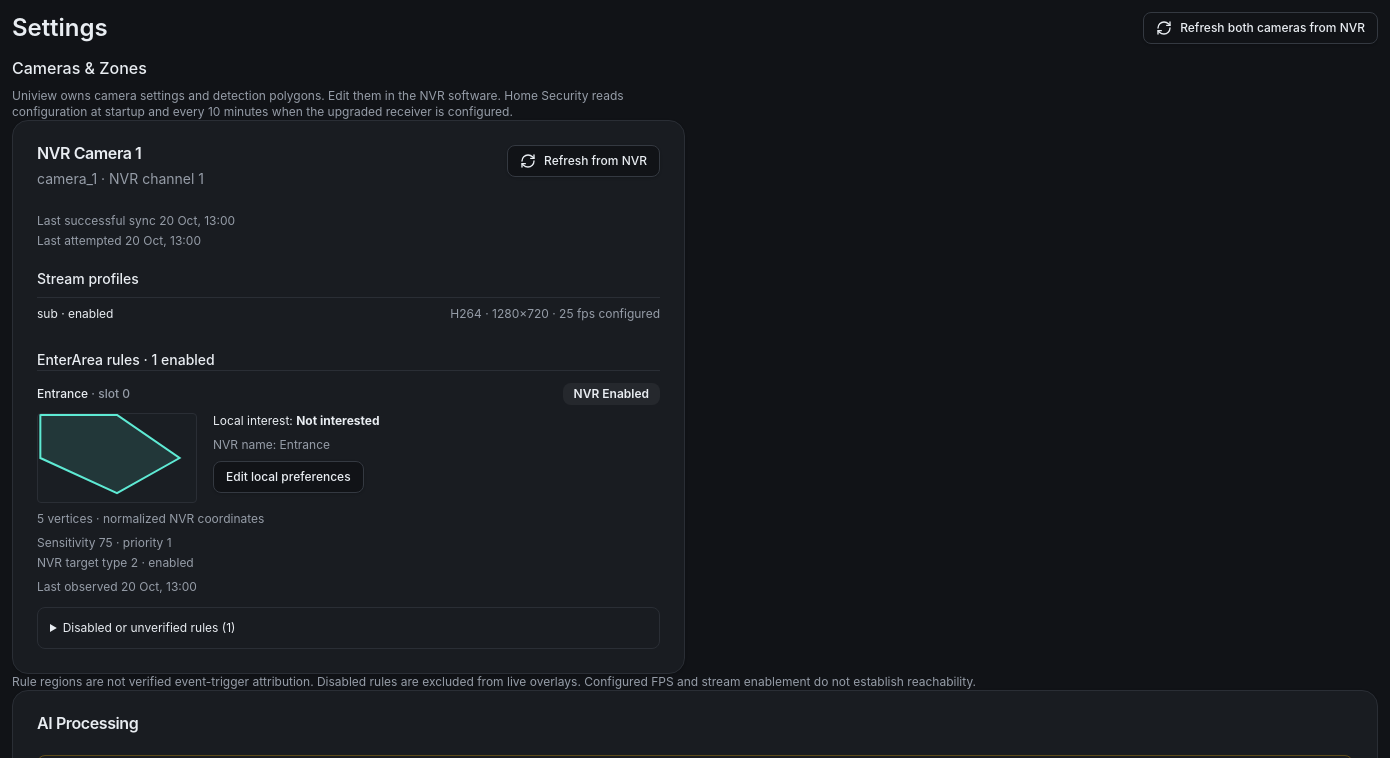
Test case: keeps drafts intact but prevents saving against geometry replaced by automatic metadata refetch
Expected: the text "Entrance" is shown, x1=37 y1=386 x2=88 y2=401
Click the button with aria-label "Edit local preferences for zone 0": click(288, 477) x1=213 y1=461 x2=364 y2=493
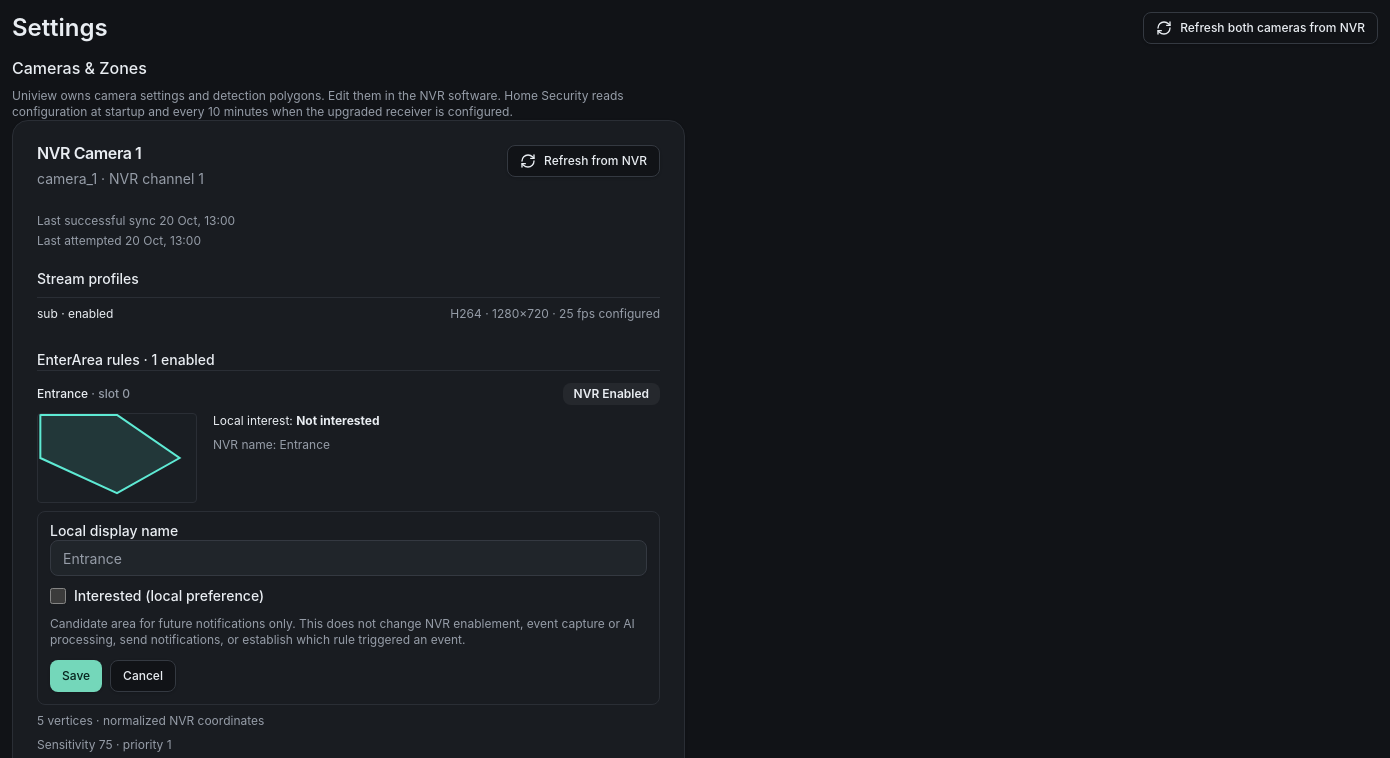
In the field labelled "Local display name": (348, 558) x1=50 y1=540 x2=647 y2=576, type "Review needed"
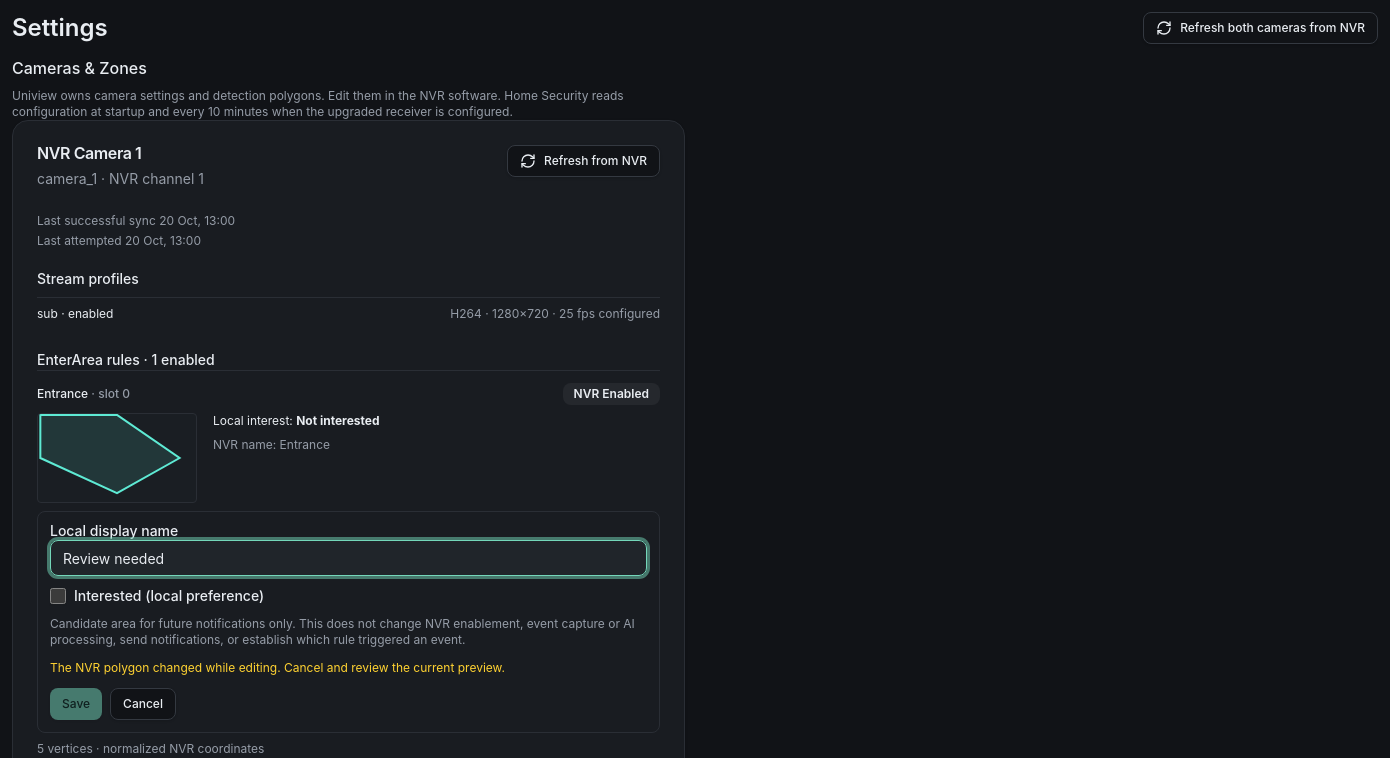
Now the text "The NVR polygon changed while editing. Cancel and review the current preview." is shown, box x1=50 y1=660 x2=505 y2=675
Now the button "Save" is disabled, box x1=50 y1=688 x2=102 y2=720
